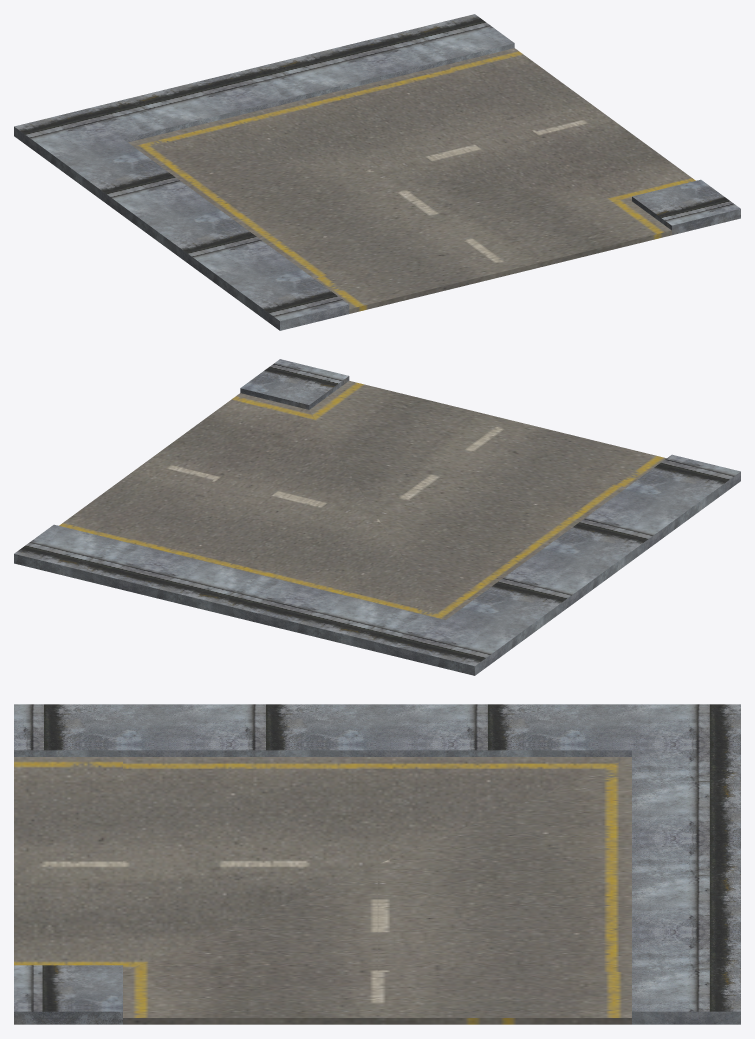
File: Urban_Road1Corner_Model.fbx
3 views of the same model, one above another, from view 1: azimuth 30°, elevation 25°; view 2: azimuth 150°, elevation 25°; view 3: azimuth 270°, elevation 25° (orthographic). The views are drawn at different scales.
Parts seen in each view (by area): view 1: Urban_Road1Corner_Mesh; view 2: Urban_Road1Corner_Mesh; view 3: Urban_Road1Corner_Mesh.
Part boxes in pixels (box(x1,y1,x2,y2)): Urban_Road1Corner_Mesh: box(14, 14, 740, 330); Urban_Road1Corner_Mesh: box(14, 359, 740, 675); Urban_Road1Corner_Mesh: box(14, 704, 740, 1024).
Size of the model in its own units: 16 by 0.32 by 16.
